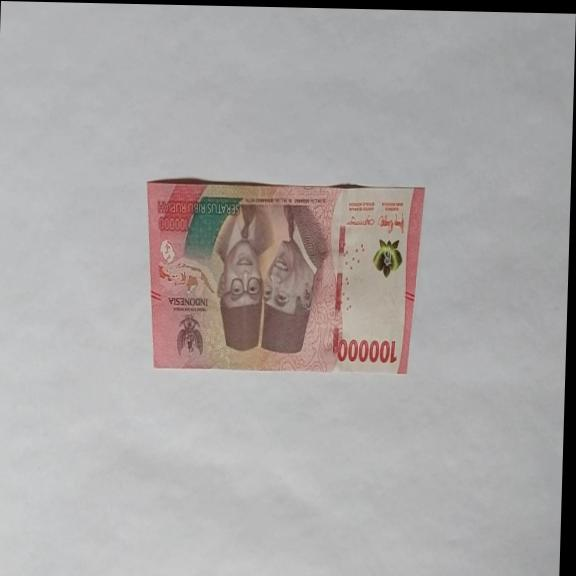Kertas: (140, 177, 424, 378), (335, 337, 397, 366)
